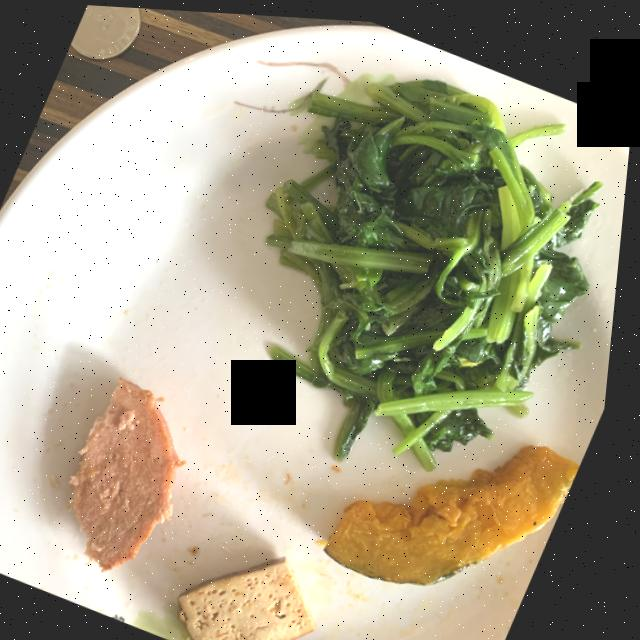Spam: (79, 377, 194, 568)
coin: (71, 4, 141, 59)
firm tofu: (189, 553, 327, 640)
mustard greens: (270, 73, 604, 465)
pumpkin: (335, 438, 588, 579)
